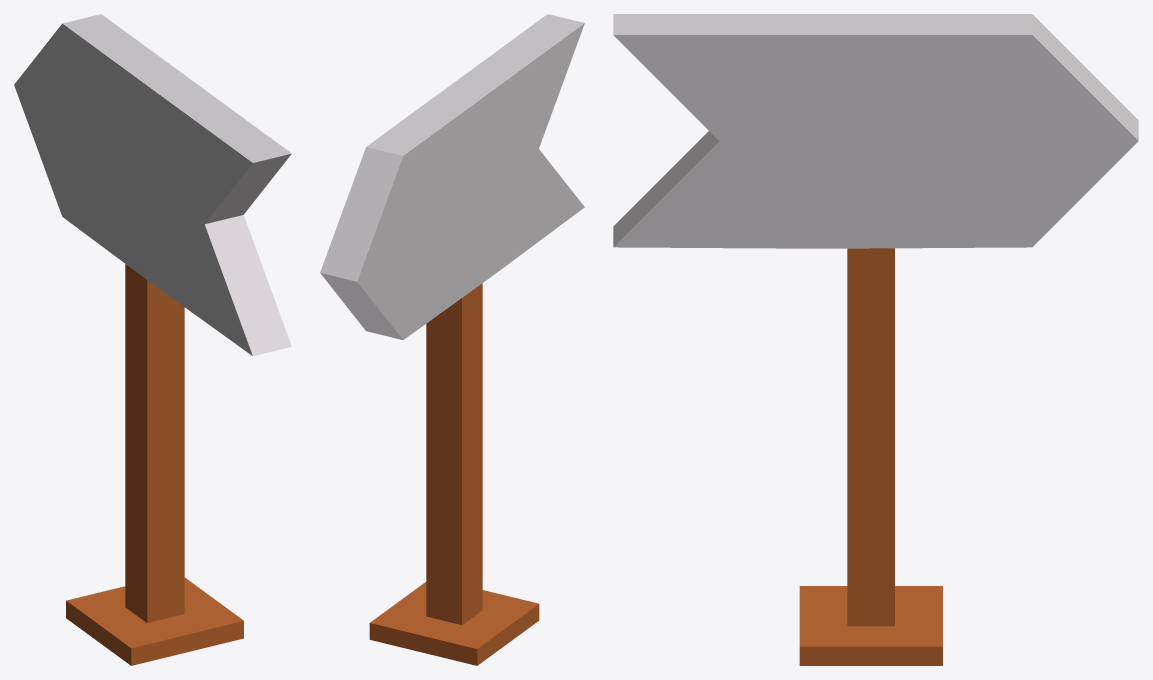
The model's file is DIRECTIONAL SIGN.glb.
The picture shows the model from 3 angles, left to right: view 1: azimuth 30°, elevation 25°; view 2: azimuth 150°, elevation 25°; view 3: azimuth 270°, elevation 25°; orthographic projection. The views are drawn at different scales.
Visible parts, largest first — view 1: DIRECTINAL SIGN; view 2: DIRECTINAL SIGN; view 3: DIRECTINAL SIGN.
Part boxes in pixels (x1,y1,x2,y2): DIRECTINAL SIGN: (14, 14, 291, 665); DIRECTINAL SIGN: (320, 14, 584, 665); DIRECTINAL SIGN: (613, 14, 1138, 665).
Bounding box in the file's own units: 1.44 × 6.8 × 5.3.
